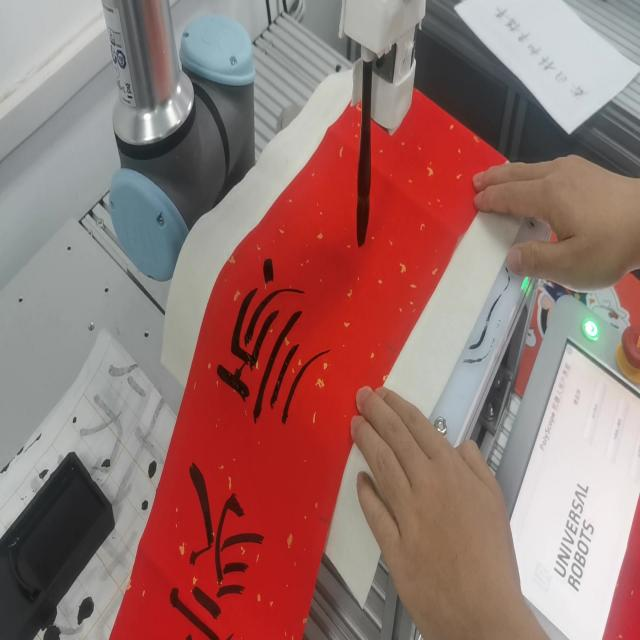head: (352, 196, 372, 253)
inkstone: (1, 446, 120, 640)
